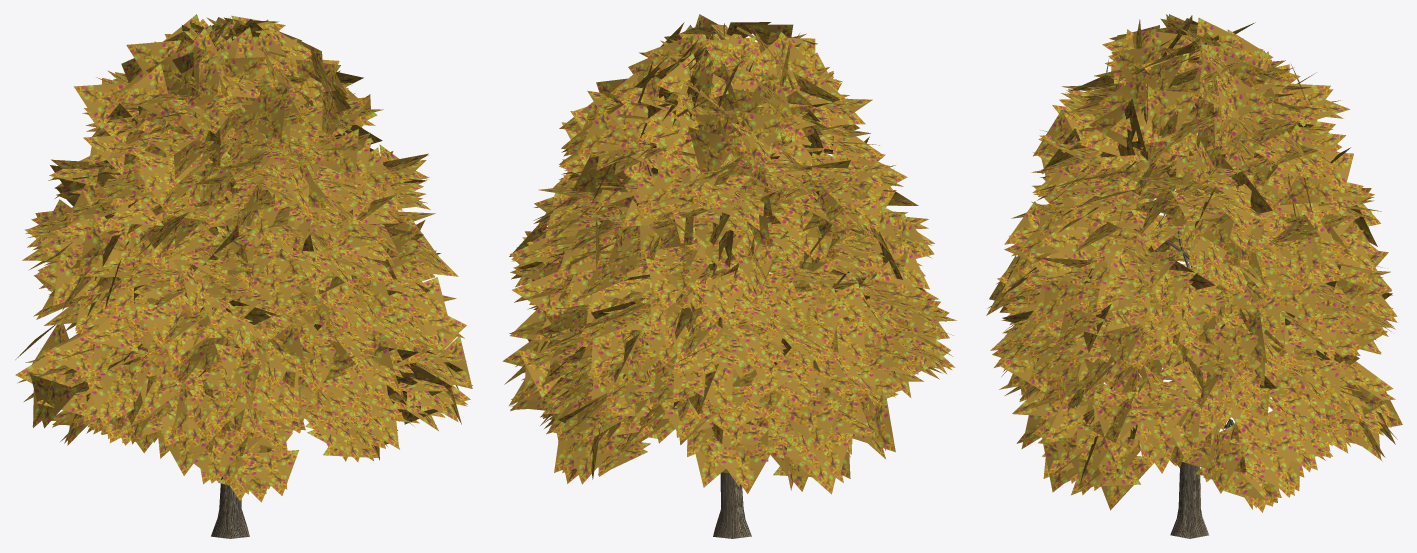
Rendered from Sassafras_Albidum_Autumn_Adult.glb.
3 renders of one model, left to right at view 1: azimuth 30°, elevation 25°; view 2: azimuth 150°, elevation 25°; view 3: azimuth 270°, elevation 25°, orthographic.
Visible parts, largest first — view 1: Sassafras_Albidum_Autumn_Adult__LOD3; view 2: Sassafras_Albidum_Autumn_Adult__LOD3; view 3: Sassafras_Albidum_Autumn_Adult__LOD3.
Boxes of the visible parts, bbox=[...] form: Sassafras_Albidum_Autumn_Adult__LOD3: bbox=[15, 14, 472, 538]; Sassafras_Albidum_Autumn_Adult__LOD3: bbox=[502, 14, 956, 538]; Sassafras_Albidum_Autumn_Adult__LOD3: bbox=[986, 14, 1402, 538].
Bounding box in the file's own units: 12.32 × 15.04 × 11.27.
Materials: 2 (2 with a texture image).
